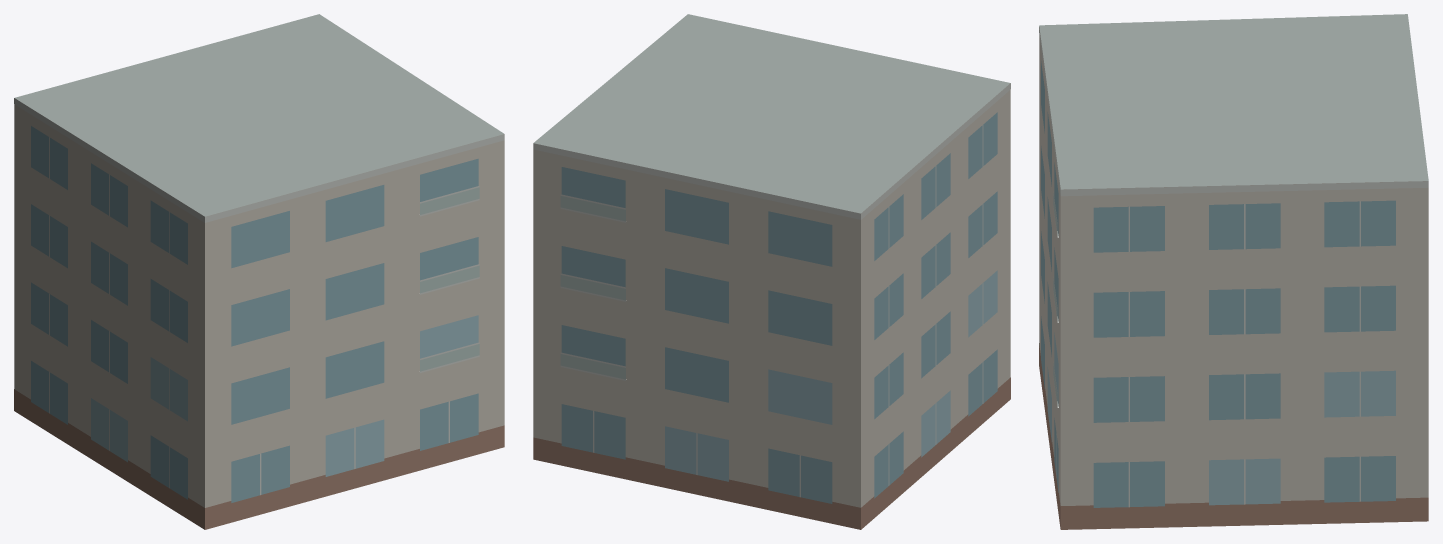
Rendered from survey-upis-32698621.glb.
3 views of the same model, side by side, from view 1: azimuth 30°, elevation 25°; view 2: azimuth 150°, elevation 25°; view 3: azimuth 270°, elevation 25° (orthographic). The views are drawn at different scales.
Visible parts, largest first — view 1: survey-upis-32698621.tmp; view 2: survey-upis-32698621.tmp; view 3: survey-upis-32698621.tmp.
Part boxes in pixels (x1,y1,x2,y2): survey-upis-32698621.tmp: (14,14,504,529); survey-upis-32698621.tmp: (533,14,1010,529); survey-upis-32698621.tmp: (1039,14,1428,529).
Size of the model in its own units: 13.5 by 12.2 by 12.67.
